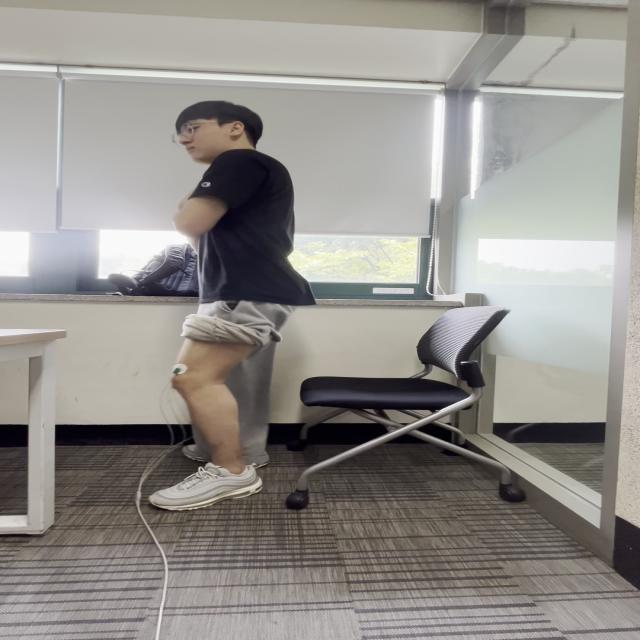stand: (150, 284, 292, 508), (192, 151, 304, 421)
